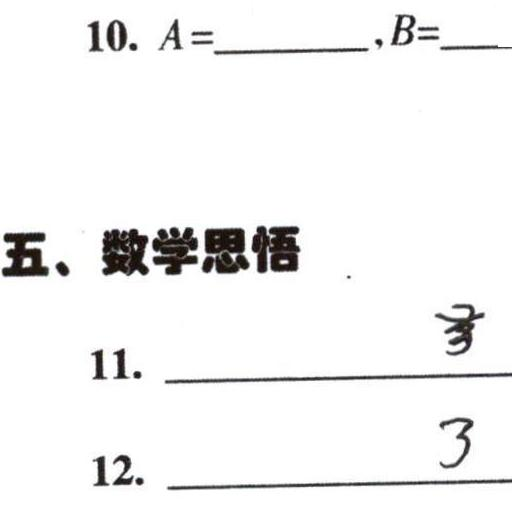ans: (435, 413, 475, 470)
